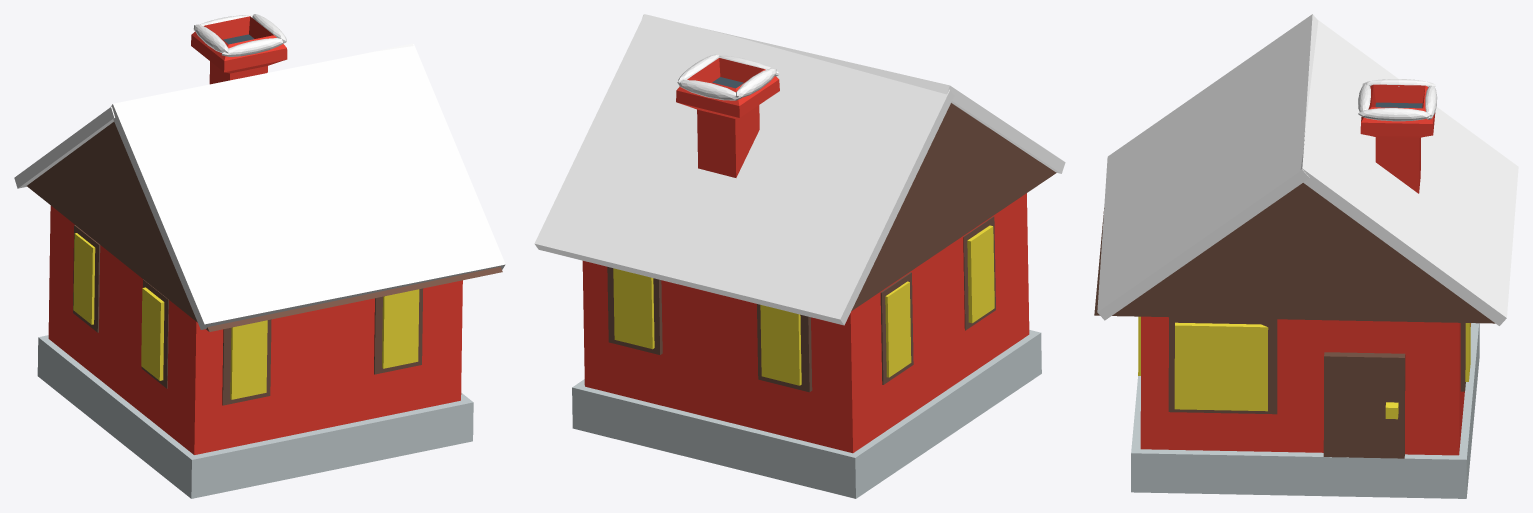
File: Snowy House.glb
3 views of the same model, side by side, from view 1: azimuth 30°, elevation 25°; view 2: azimuth 150°, elevation 25°; view 3: azimuth 270°, elevation 25° (orthographic). The views are drawn at different scales.
Visible parts, largest first — view 1: group176018368; view 2: group176018368; view 3: group176018368.
Boxes of the visible parts, <box> form: group176018368: <box>14,14,505,498</box>; group176018368: <box>534,14,1065,498</box>; group176018368: <box>1094,14,1518,498</box>.
Size of the model in its own units: 1.16 by 1.24 by 1.36.
